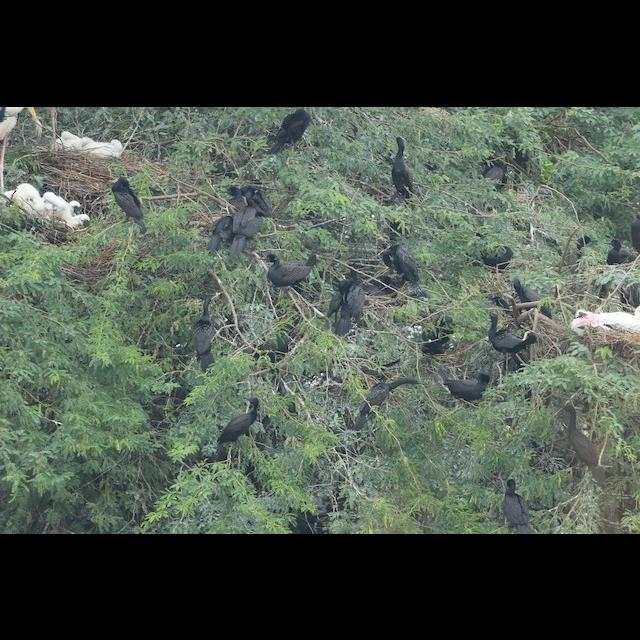cormorant: (554, 396, 600, 479), (486, 308, 536, 369), (187, 294, 223, 370), (216, 394, 262, 446), (360, 374, 420, 412), (498, 474, 534, 534), (109, 175, 147, 231), (328, 282, 368, 334), (268, 106, 314, 150), (257, 254, 319, 286), (388, 132, 418, 198), (598, 235, 640, 268)
